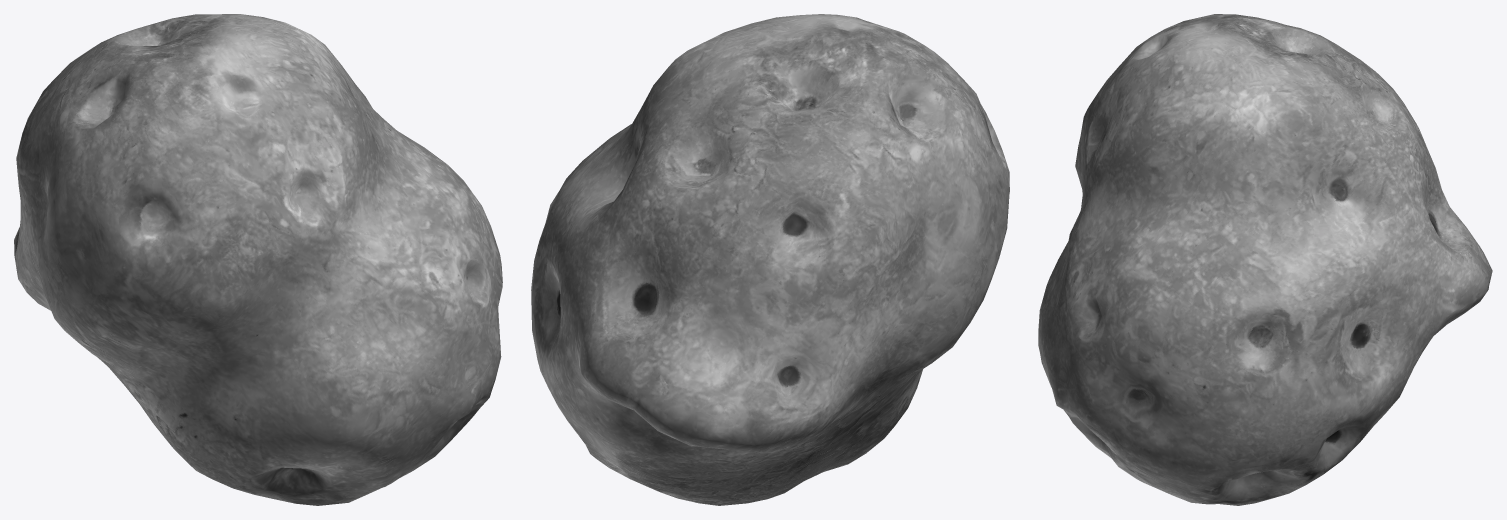
Rendered from rock_01.glb.
The picture shows the model from 3 angles, left to right: view 1: azimuth 30°, elevation 25°; view 2: azimuth 150°, elevation 25°; view 3: azimuth 270°, elevation 25°; orthographic projection. The views are drawn at different scales.
Parts seen in each view (by area): view 1: rock_01; view 2: rock_01; view 3: rock_01.
Part boxes in pixels (<box>): rock_01: <box>14,14,502,505</box>; rock_01: <box>531,14,1009,505</box>; rock_01: <box>1038,14,1492,505</box>.
Bounding box in the file's own units: 1.64 × 1.74 × 1.75.
1 material, 1 textured.
